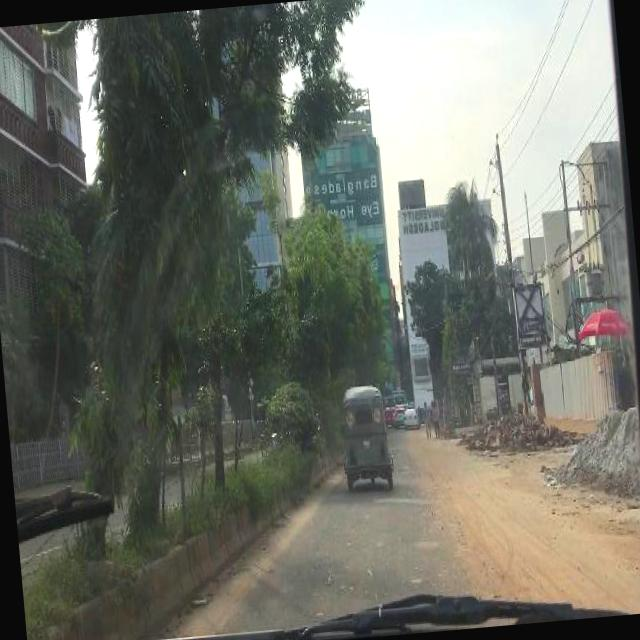car: (404, 402, 422, 427), (382, 406, 393, 424), (394, 406, 406, 422)
motorcycle: (340, 380, 396, 488)
